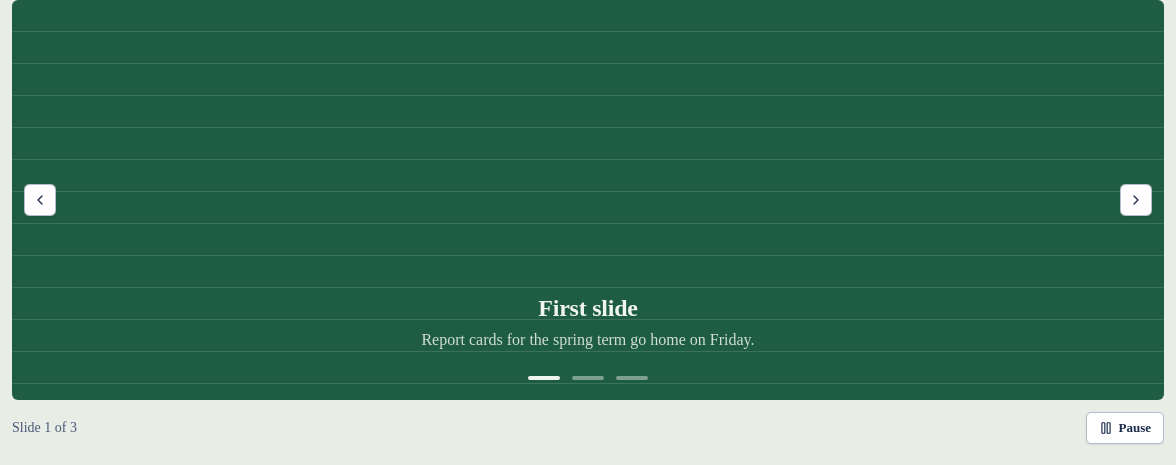
DemoCarousel › pauses and resumes autoplay with its button
The width and height of the screenshot is (1176, 465).
Step 1. Click the button "Pause" → (1125, 428), box [1086, 412, 1164, 444]
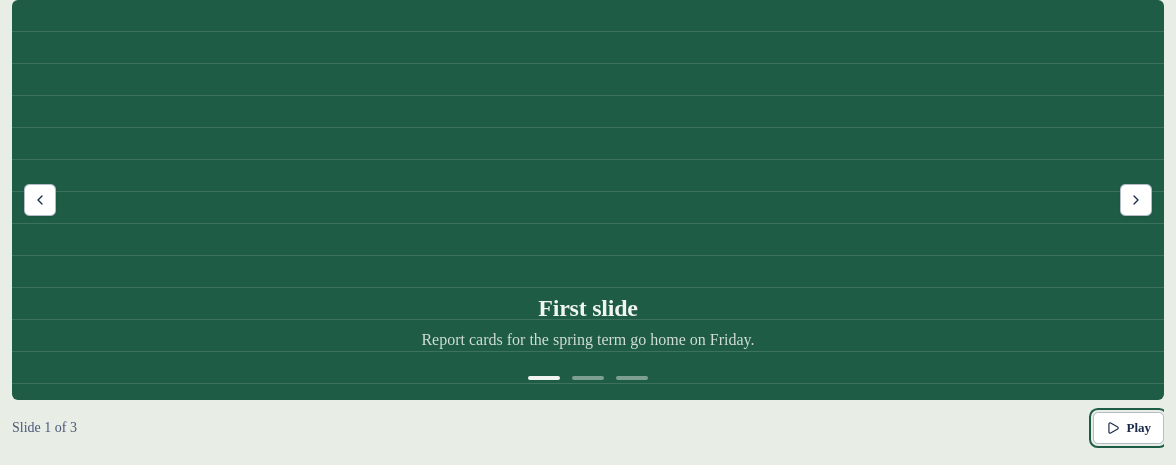
Expected: the button "Play" is shown
Step 2. Click the button "Play" → (1129, 428), box [1093, 412, 1164, 444]
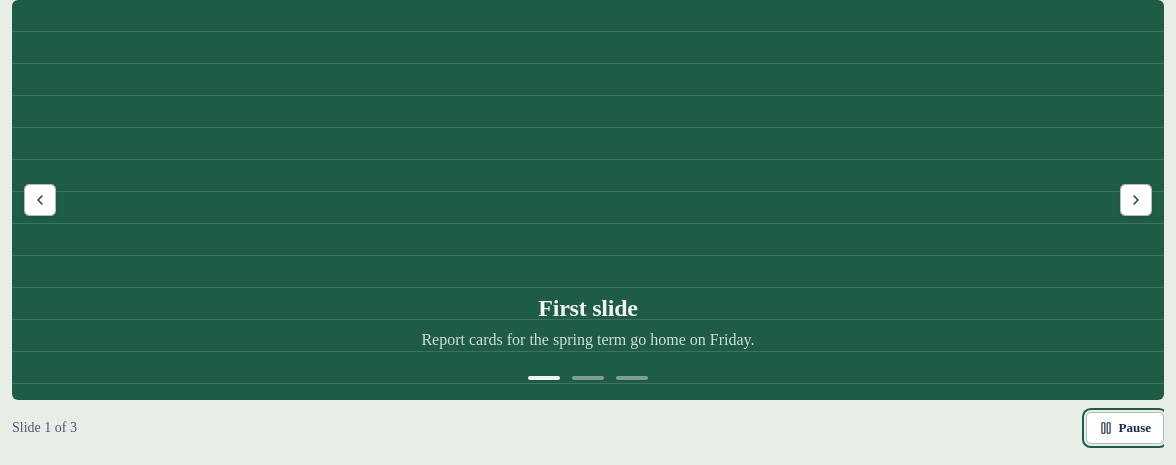
Expected: the button "Pause" is shown, [1086, 412, 1164, 444]
